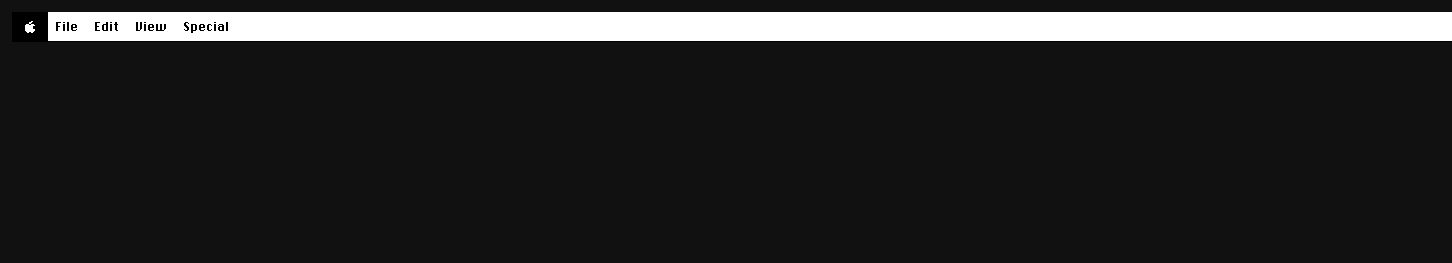
Scenario: MenuBar › opens dropdown on File click
Click the button "File": {"x": 68, "y": 26} [48, 12, 87, 42]
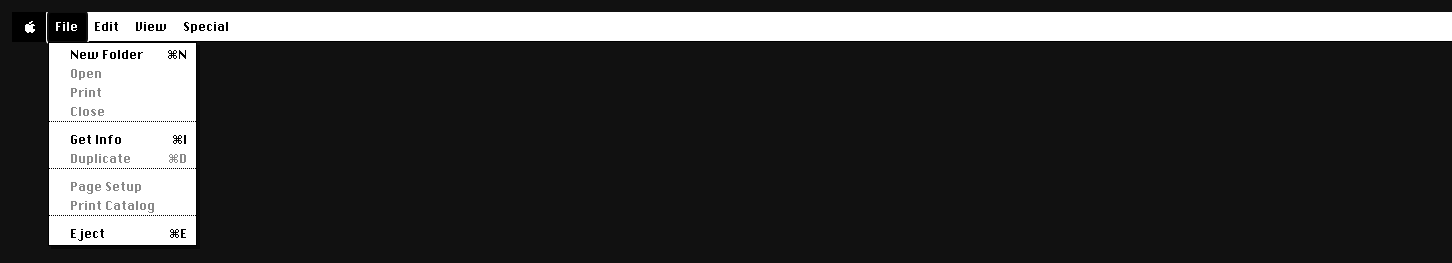
Expected: the text "New Folder" is shown, [71, 46, 144, 62]
